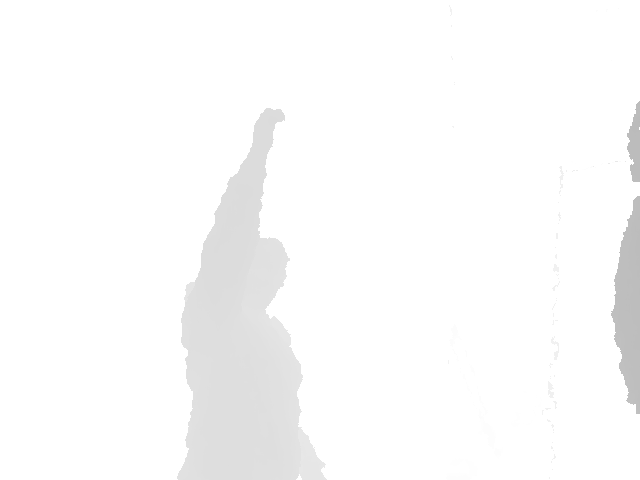hand: (252, 108, 285, 160)
head: (243, 236, 287, 319)
person: (175, 107, 329, 480)
